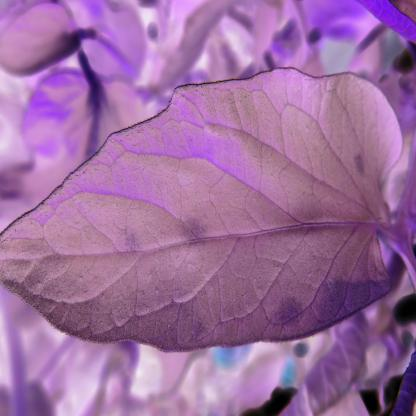Tomato leaf bacterial spot: (0, 67, 395, 370)
